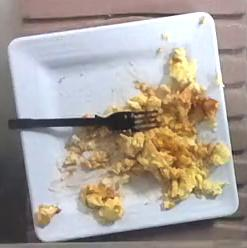biscuit: (81, 183, 122, 221)
scrambled_eggs: (61, 47, 229, 221)
